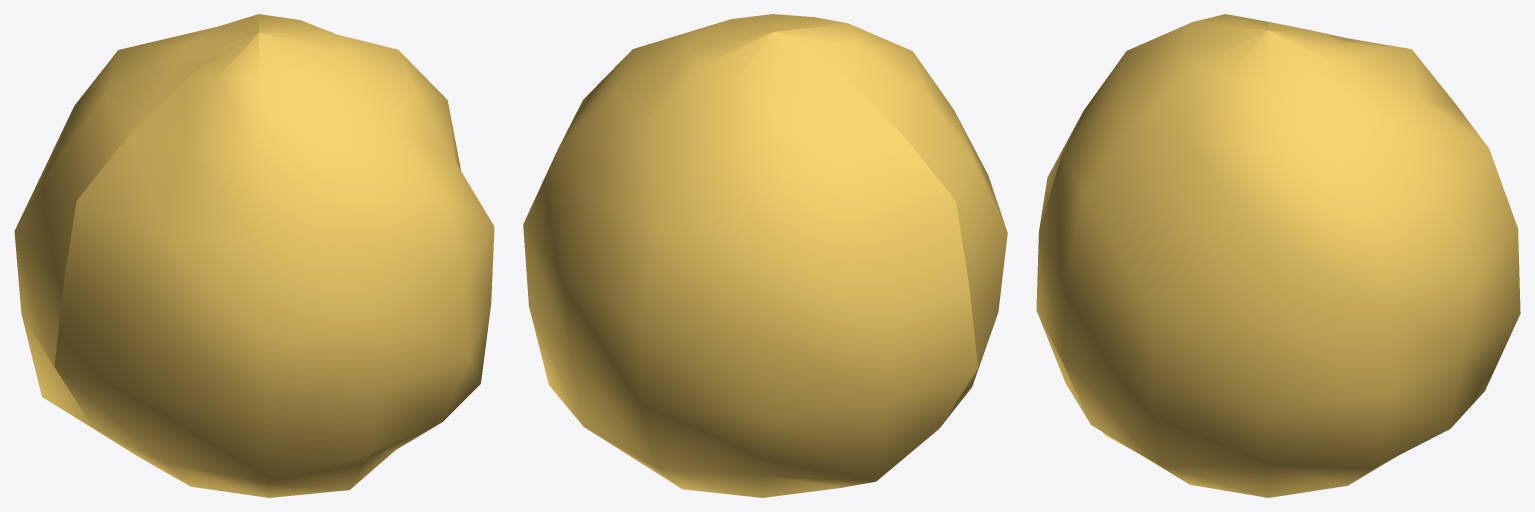
Rendered from grano-choclo-tierno.glb.
3 views of the same model, side by side, from view 1: azimuth 30°, elevation 25°; view 2: azimuth 150°, elevation 25°; view 3: azimuth 270°, elevation 25° (orthographic).
Parts seen in each view (by area): view 1: cuerpo; view 2: cuerpo; view 3: cuerpo.
Boxes of the visible parts, x1=… form: cuerpo: x1=14, y1=14, x2=494, y2=497; cuerpo: x1=523, y1=14, x2=1007, y2=497; cuerpo: x1=1036, y1=14, x2=1520, y2=497.
Bounding box in the file's own units: 0.2578 × 0.2484 × 0.2565.
